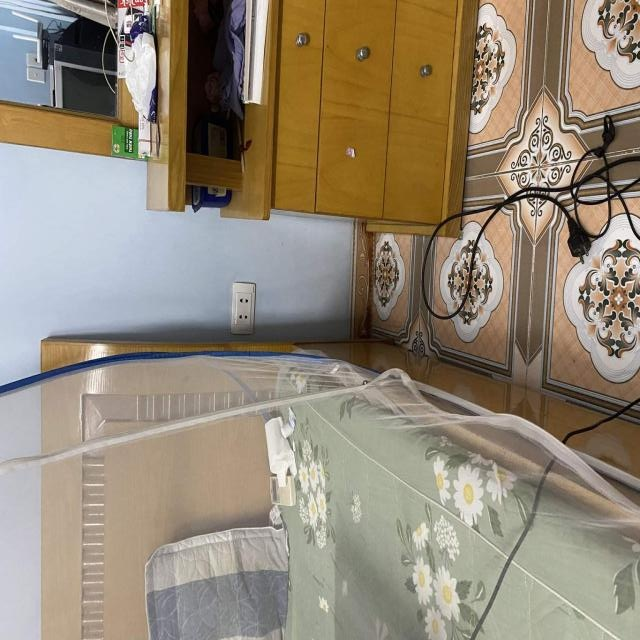outlet: (230, 283, 256, 335)
